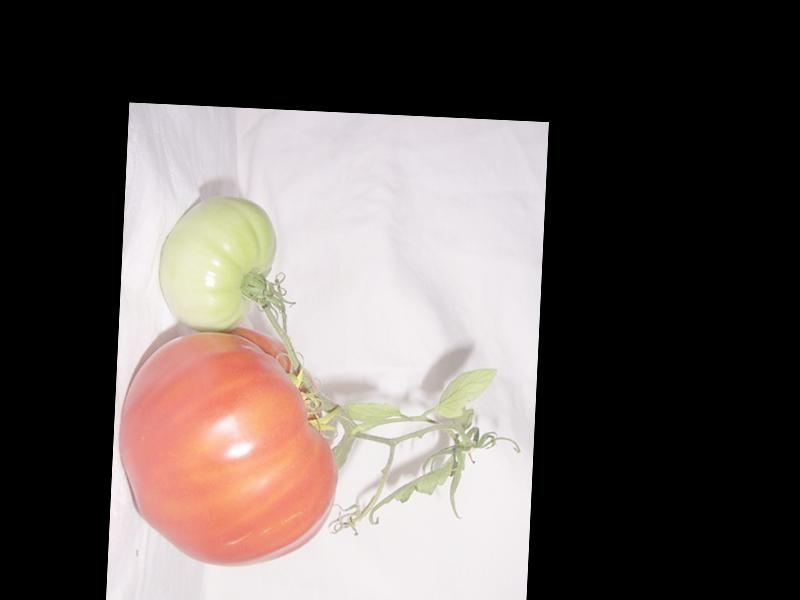Tomato: (115, 321, 344, 571)
